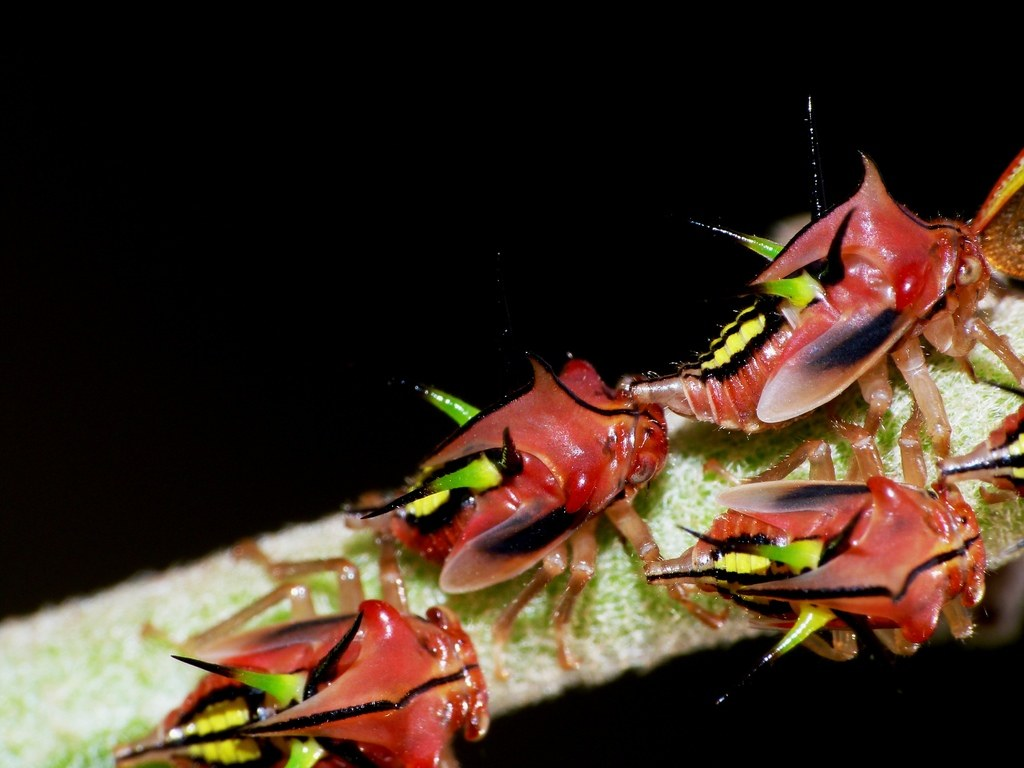insect: (346, 254, 737, 669), (632, 98, 1023, 442), (646, 390, 1023, 702), (107, 545, 492, 767)
